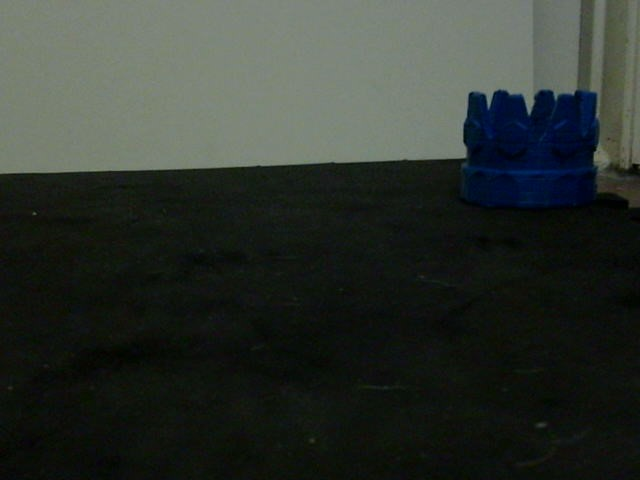crown: (459, 86, 602, 208)
